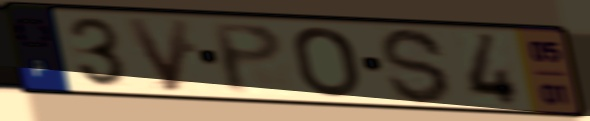3: (68, 15, 127, 89)
4: (465, 31, 519, 109)
O: (289, 24, 363, 100)
P: (207, 21, 287, 97)
S: (377, 25, 455, 107)
V: (120, 15, 193, 94)
